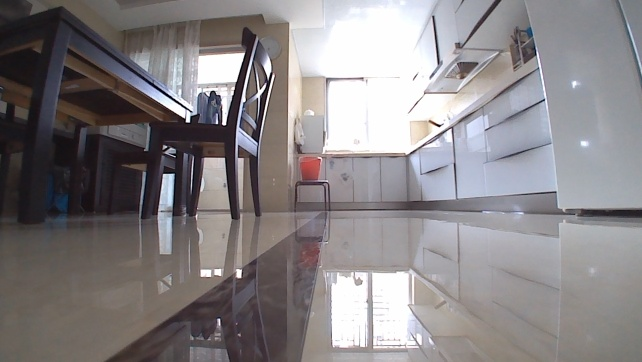cupboard: (295, 49, 562, 216)
dining_table: (0, 0, 280, 225)
refrigerator1: (521, 0, 641, 223)
